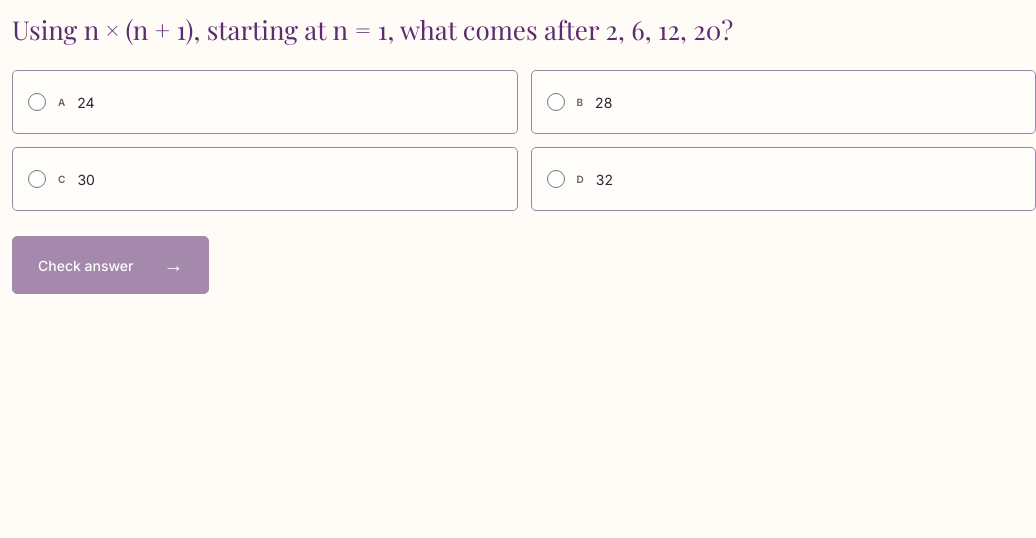
Test: quiz interaction › explains an incorrect answer in text
This screenshot has width=1036, height=538.
Step 1. Click the radio button labelled "A 24" → x=37, y=102, box x1=28 y1=93 x2=46 y2=111
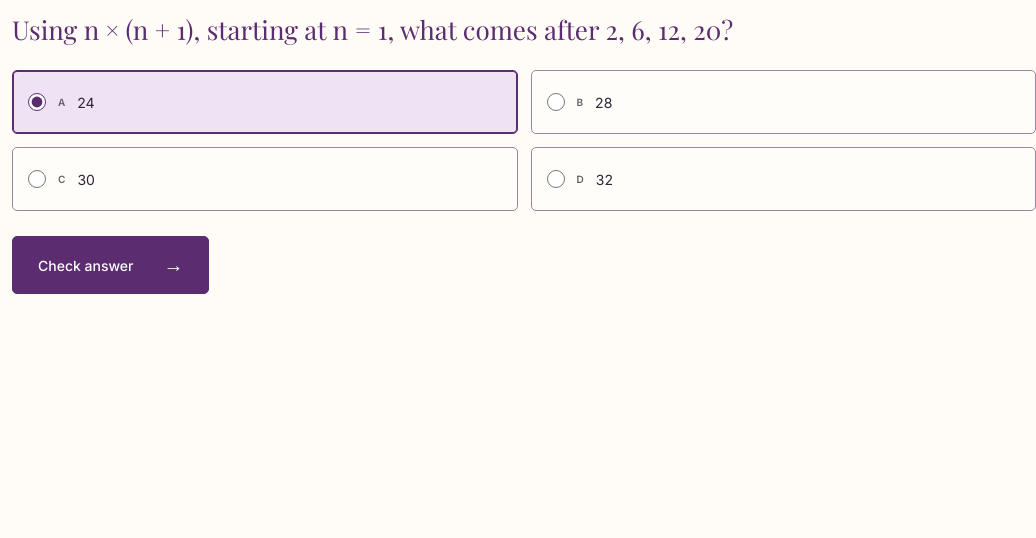
Step 2. Click the button "Check answer →" → x=111, y=265, box x1=12 y1=236 x2=210 y2=294
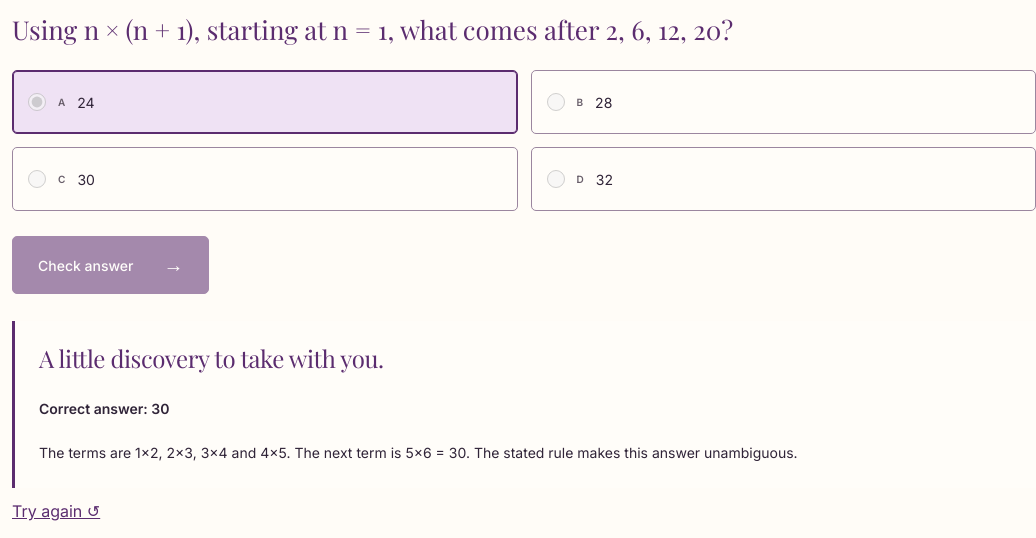
Expected: the text "Correct answer: 30" is shown, x1=39 y1=400 x2=170 y2=417
Expected: the heading "A little discovery to take with you." is shown, x1=39 y1=342 x2=384 y2=374
